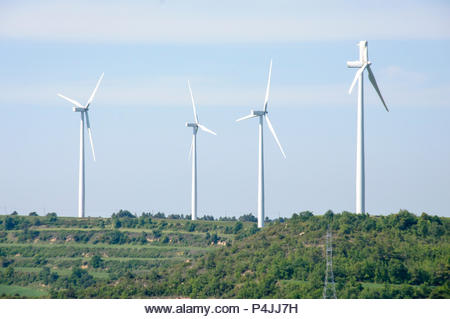faulty: (342, 38, 393, 117)
working: (233, 56, 295, 166), (57, 71, 111, 175)
